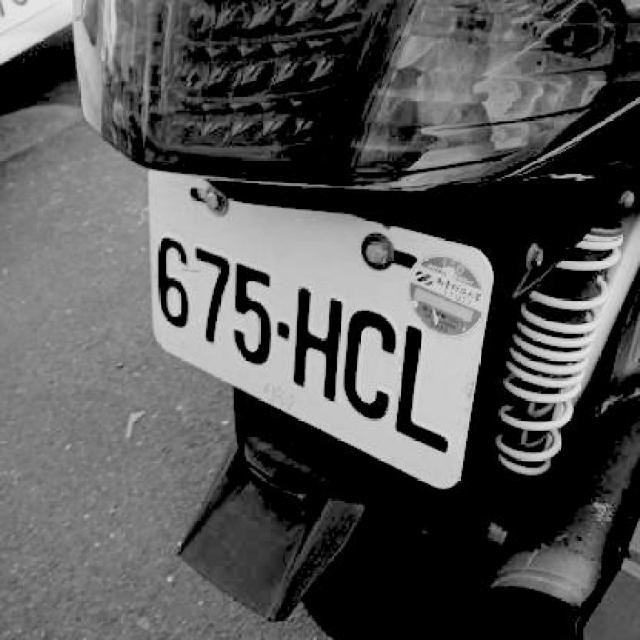-: (272, 316, 292, 344)
5: (231, 257, 275, 371)
6: (152, 232, 192, 336)
7: (192, 245, 232, 349)
C: (340, 305, 395, 419)
H: (289, 283, 342, 402)
L: (390, 319, 452, 454)
